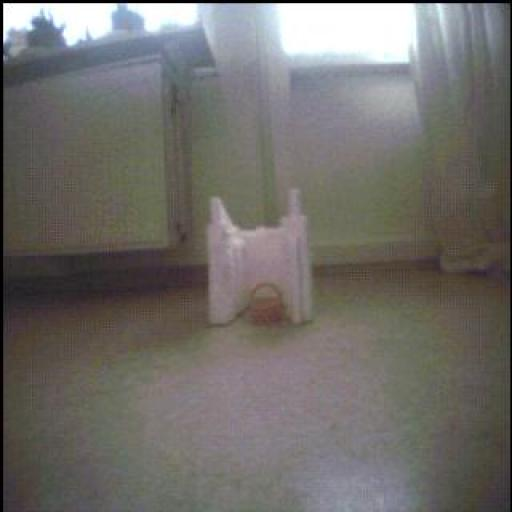Basket: (249, 284, 286, 324)
